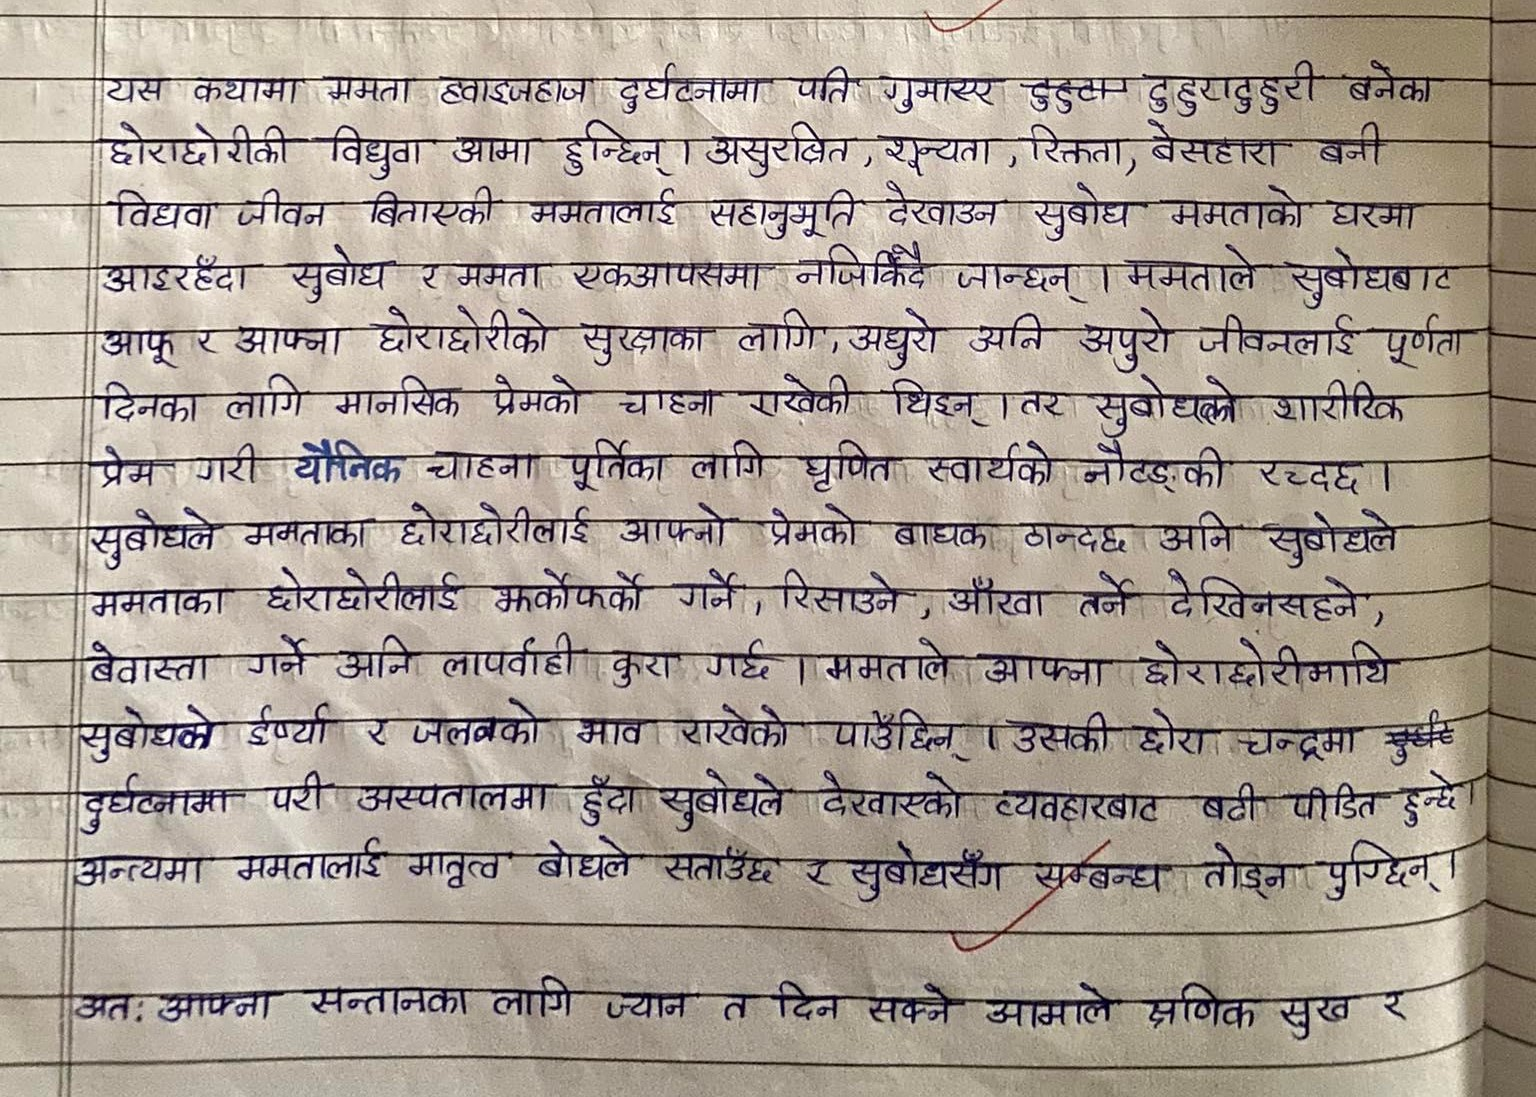text: (1286, 240, 1484, 312), (1135, 641, 1396, 692), (1161, 570, 1371, 630), (291, 963, 480, 1028), (394, 499, 598, 554), (1142, 53, 1322, 116), (569, 245, 777, 297), (850, 844, 1014, 909), (264, 563, 463, 615), (99, 122, 296, 173), (973, 971, 1121, 1036), (973, 779, 1174, 826), (808, 768, 961, 830), (1088, 374, 1242, 435), (84, 772, 233, 833), (363, 306, 550, 355), (82, 503, 222, 567), (662, 763, 791, 833), (1313, 835, 1441, 905), (231, 833, 387, 890), (613, 57, 764, 115), (1077, 437, 1224, 496), (1262, 506, 1403, 567), (90, 248, 253, 302), (1028, 842, 1170, 902), (1192, 313, 1360, 364), (490, 563, 654, 615), (1142, 965, 1256, 1040), (347, 774, 552, 814), (706, 118, 855, 173), (775, 562, 907, 622), (1272, 378, 1417, 432), (1141, 118, 1291, 170), (571, 312, 716, 366), (787, 241, 928, 296), (704, 186, 858, 236), (78, 706, 218, 761), (440, 630, 586, 683), (410, 695, 546, 749), (1169, 180, 1315, 232), (810, 634, 956, 685), (830, 702, 967, 755), (155, 972, 278, 1032), (944, 254, 1092, 302), (1122, 245, 1263, 294), (1244, 449, 1385, 499), (434, 66, 594, 110), (527, 180, 680, 226), (557, 120, 680, 176), (972, 641, 1113, 690), (1074, 303, 1172, 372), (1341, 46, 1456, 104), (557, 435, 669, 494), (284, 245, 392, 306), (675, 697, 796, 752), (335, 370, 463, 421), (356, 185, 501, 230), (920, 440, 1054, 489), (404, 833, 510, 894), (659, 841, 788, 890), (82, 638, 216, 685), (1197, 841, 1294, 905), (1274, 979, 1356, 1055), (880, 63, 1001, 114), (99, 378, 207, 435), (74, 844, 207, 890), (82, 579, 239, 619), (534, 829, 637, 888), (848, 310, 944, 373), (802, 438, 910, 494), (287, 436, 405, 487), (1007, 700, 1117, 754), (853, 977, 959, 1033), (325, 121, 424, 180), (1030, 182, 1135, 237), (880, 179, 1002, 227), (875, 125, 994, 173), (1018, 118, 1129, 170), (594, 975, 693, 1032), (237, 511, 374, 552), (417, 440, 540, 486), (947, 572, 1052, 624), (616, 502, 734, 548), (1018, 513, 1132, 560), (101, 191, 223, 235), (489, 968, 576, 1029), (1234, 717, 1356, 761), (744, 372, 851, 420), (485, 368, 584, 420), (1134, 705, 1219, 763), (69, 971, 148, 1033), (236, 313, 341, 360), (883, 378, 976, 430), (888, 511, 999, 553), (772, 963, 849, 1025), (675, 560, 754, 620), (609, 374, 721, 416), (1329, 190, 1427, 237), (759, 503, 864, 546), (332, 630, 419, 681), (453, 248, 541, 298), (222, 372, 304, 425), (235, 184, 326, 232), (1384, 313, 1454, 375), (249, 700, 334, 752), (1150, 509, 1240, 557), (1291, 778, 1382, 825), (737, 306, 820, 357), (572, 769, 647, 825), (93, 321, 182, 367), (1398, 765, 1462, 829), (688, 435, 770, 484), (703, 630, 777, 685), (261, 763, 337, 817), (85, 443, 167, 492), (967, 306, 1043, 359), (1318, 118, 1394, 169), (449, 125, 541, 166), (601, 643, 679, 692), (240, 630, 315, 679), (1073, 569, 1141, 622), (315, 68, 412, 104), (192, 442, 262, 490), (1194, 779, 1264, 826), (571, 708, 645, 750), (101, 69, 169, 108), (796, 57, 852, 104), (712, 968, 753, 1033), (1015, 375, 1068, 421), (1373, 979, 1418, 1034), (191, 315, 229, 364), (796, 849, 834, 898), (355, 705, 399, 747), (410, 253, 446, 297)
